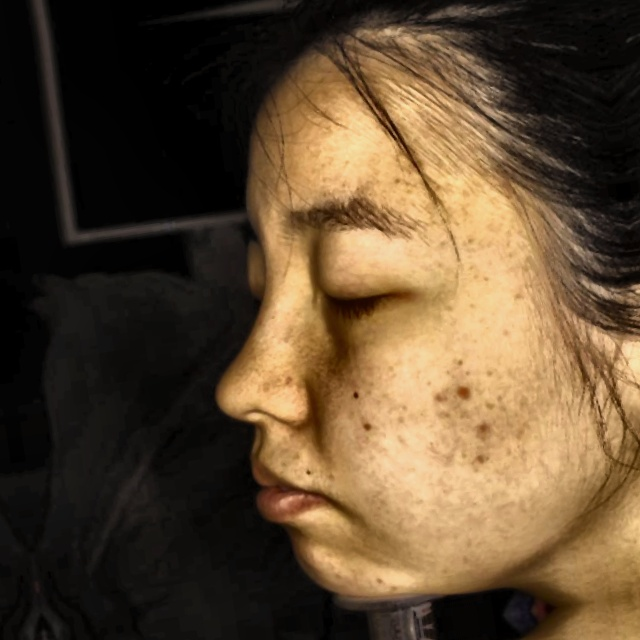comedone: (446, 381, 477, 407)
